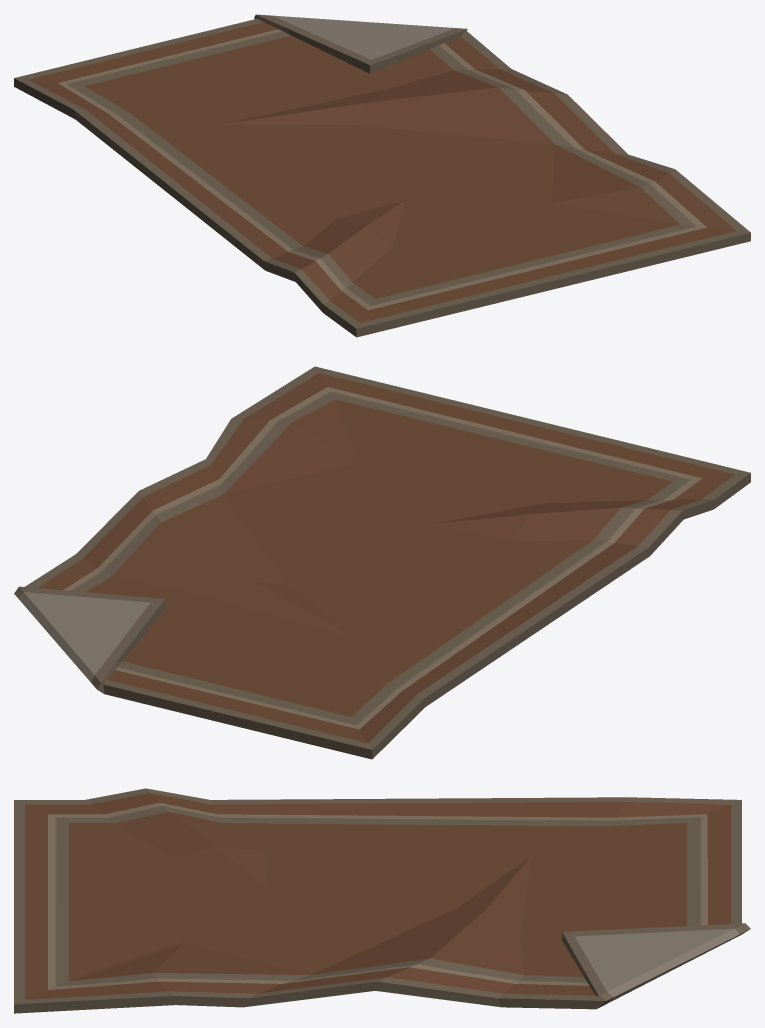
Rendered from SM_Prop_Rug_01.fbx.
3 views of the same model, one above another, from view 1: azimuth 30°, elevation 25°; view 2: azimuth 150°, elevation 25°; view 3: azimuth 270°, elevation 25° (orthographic). The views are drawn at different scales.
Parts seen in each view (by area): view 1: SM_Prop_Rug_01; view 2: SM_Prop_Rug_01; view 3: SM_Prop_Rug_01.
Part boxes in pixels (bbox=[...]): SM_Prop_Rug_01: bbox=[14, 14, 750, 337]; SM_Prop_Rug_01: bbox=[14, 366, 750, 759]; SM_Prop_Rug_01: bbox=[14, 788, 750, 1013].
Size of the model in its own units: 101 by 6.21 by 154.
